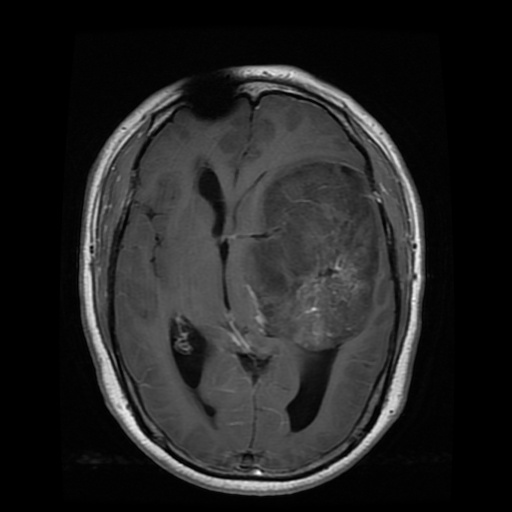glioma: (250, 160, 379, 350)
